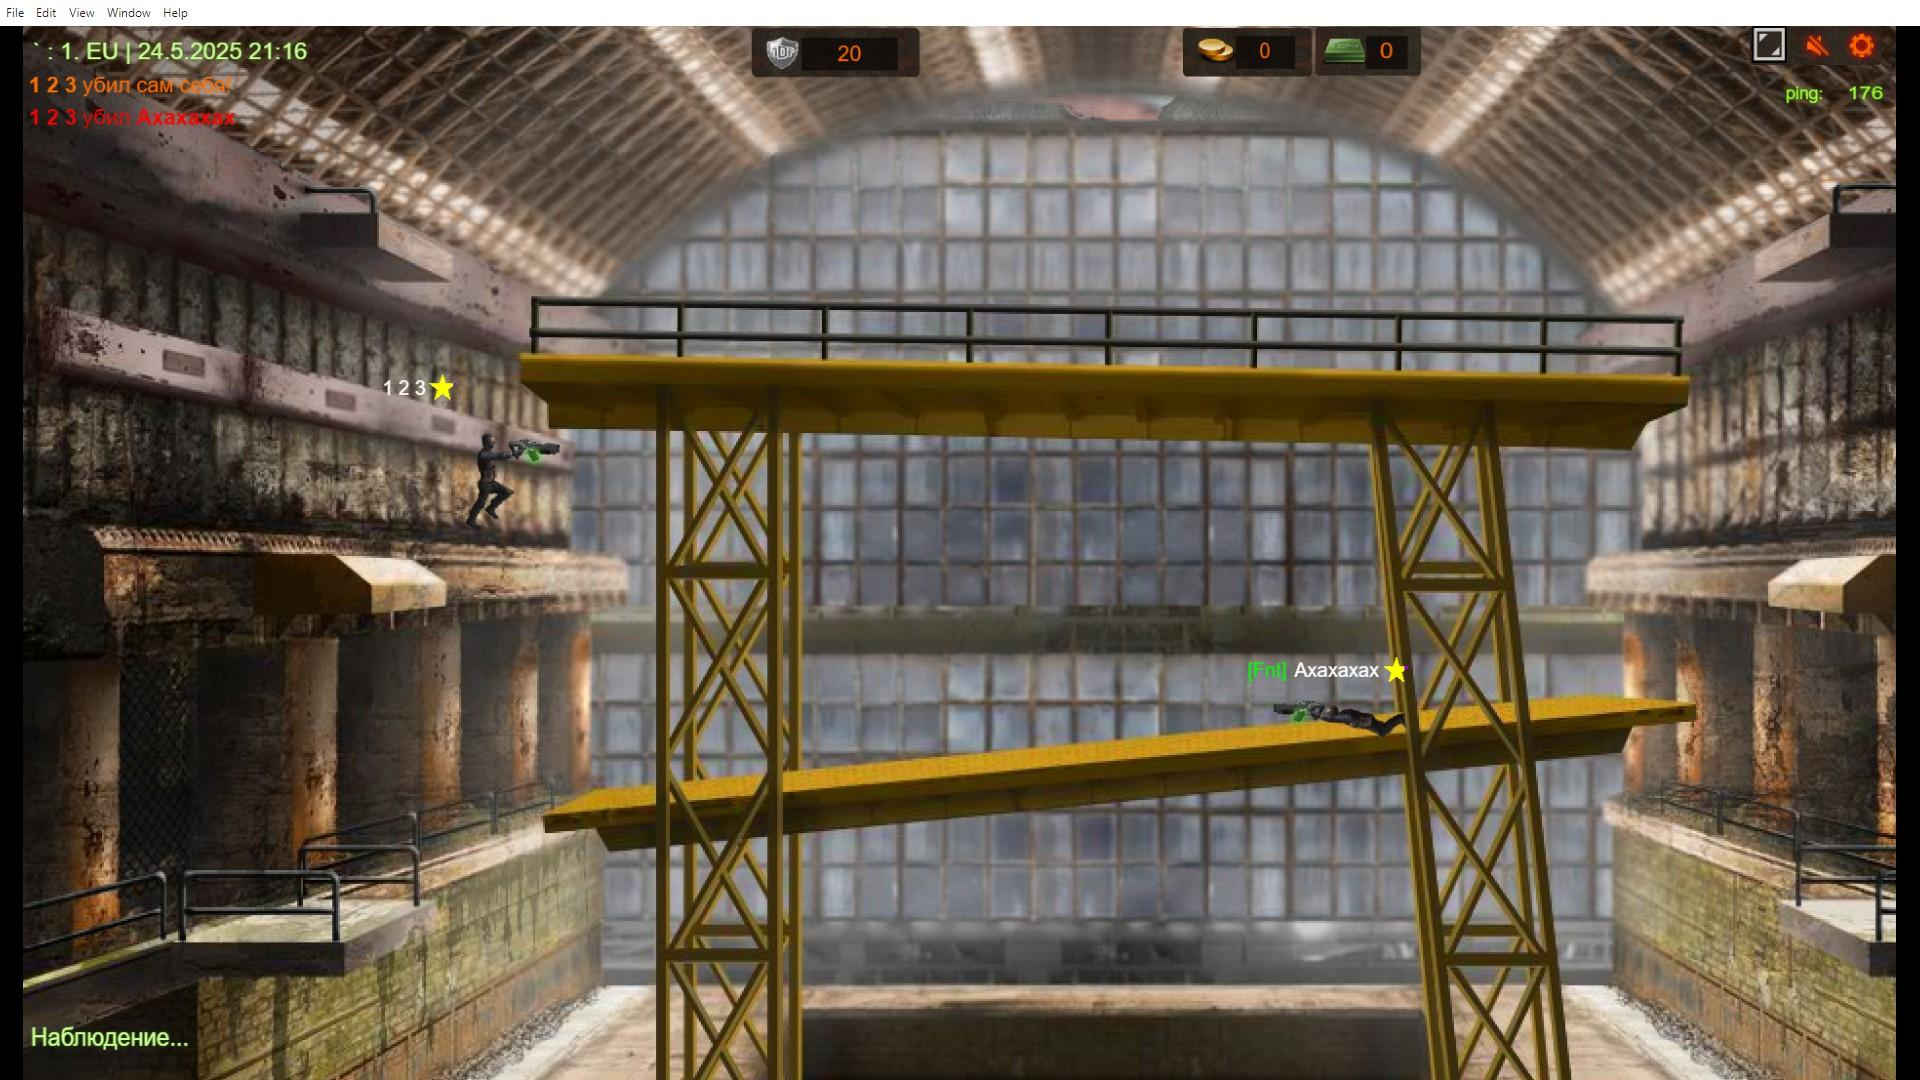enemy: (1312, 703, 1407, 736), (476, 433, 500, 526)
